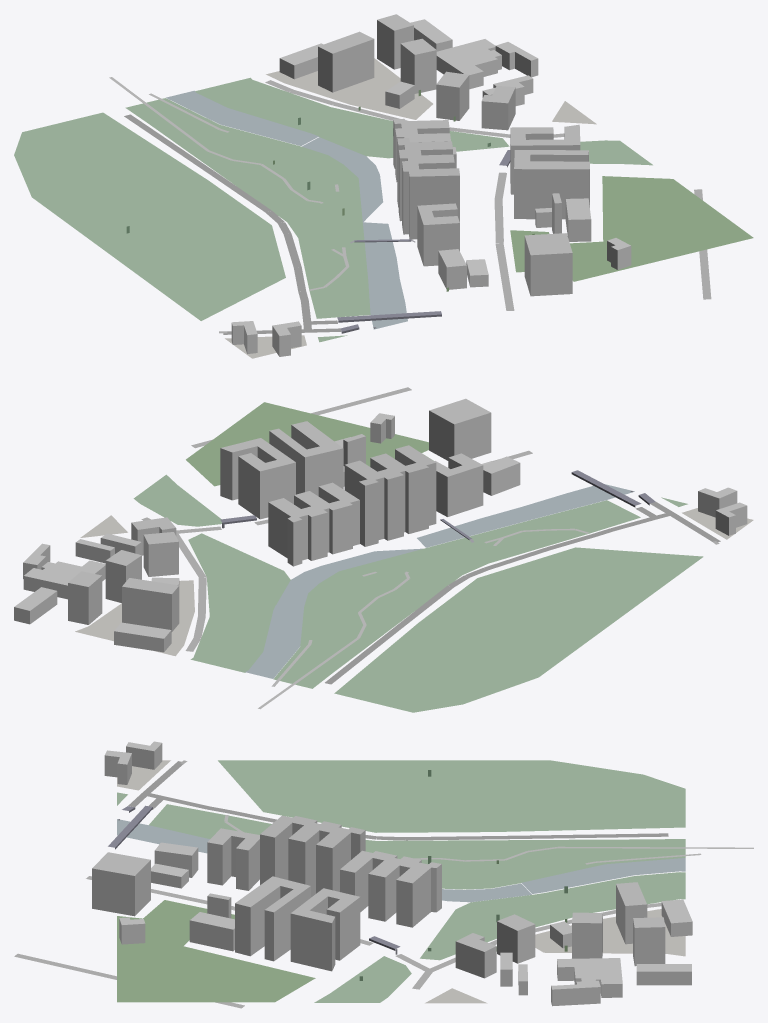
3 views of the same model, one above another, from view 1: azimuth 30°, elevation 25°; view 2: azimuth 150°, elevation 25°; view 3: azimuth 270°, elevation 25° (orthographic). The views are drawn at different scales.
Bounding box in the file's own units: 512 × 61.15 × 651.
